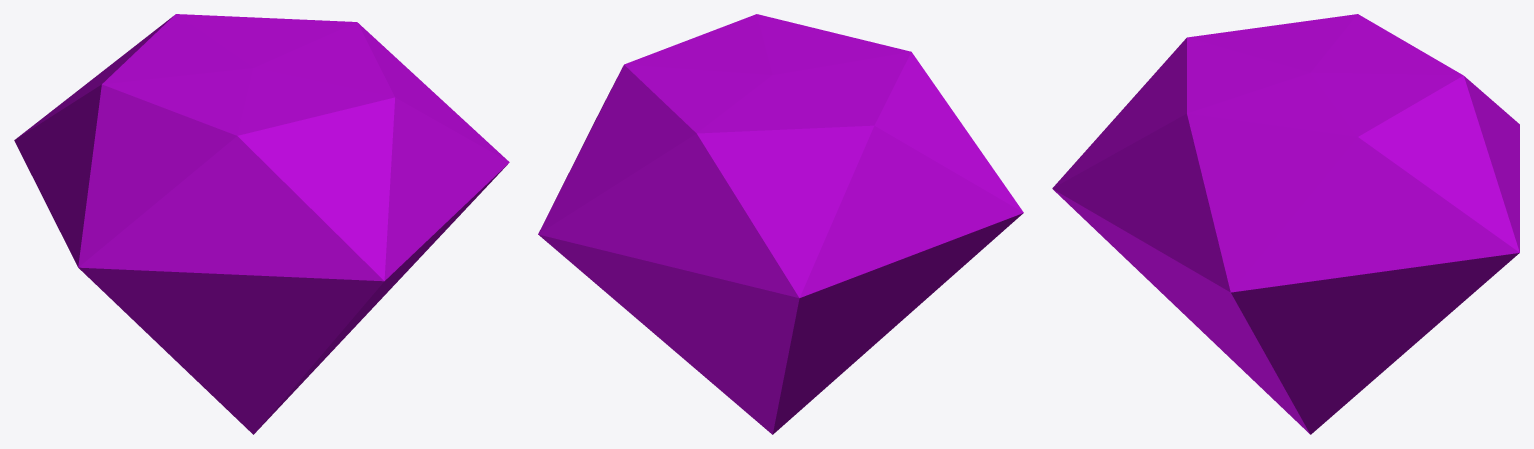
File: Diamond.FBX
The picture shows the model from 3 angles, left to right: view 1: azimuth 30°, elevation 25°; view 2: azimuth 150°, elevation 25°; view 3: azimuth 270°, elevation 25°; orthographic projection. The views are drawn at different scales.
Parts seen in each view (by area): view 1: Cylinder008; view 2: Cylinder008; view 3: Cylinder008.
Boxes of the visible parts, box(x1,y1,x2,y2) form: Cylinder008: box(14, 14, 509, 434); Cylinder008: box(538, 14, 1023, 434); Cylinder008: box(1052, 14, 1519, 434).
Bounding box in the file's own units: 105 × 85.42 × 99.99.
